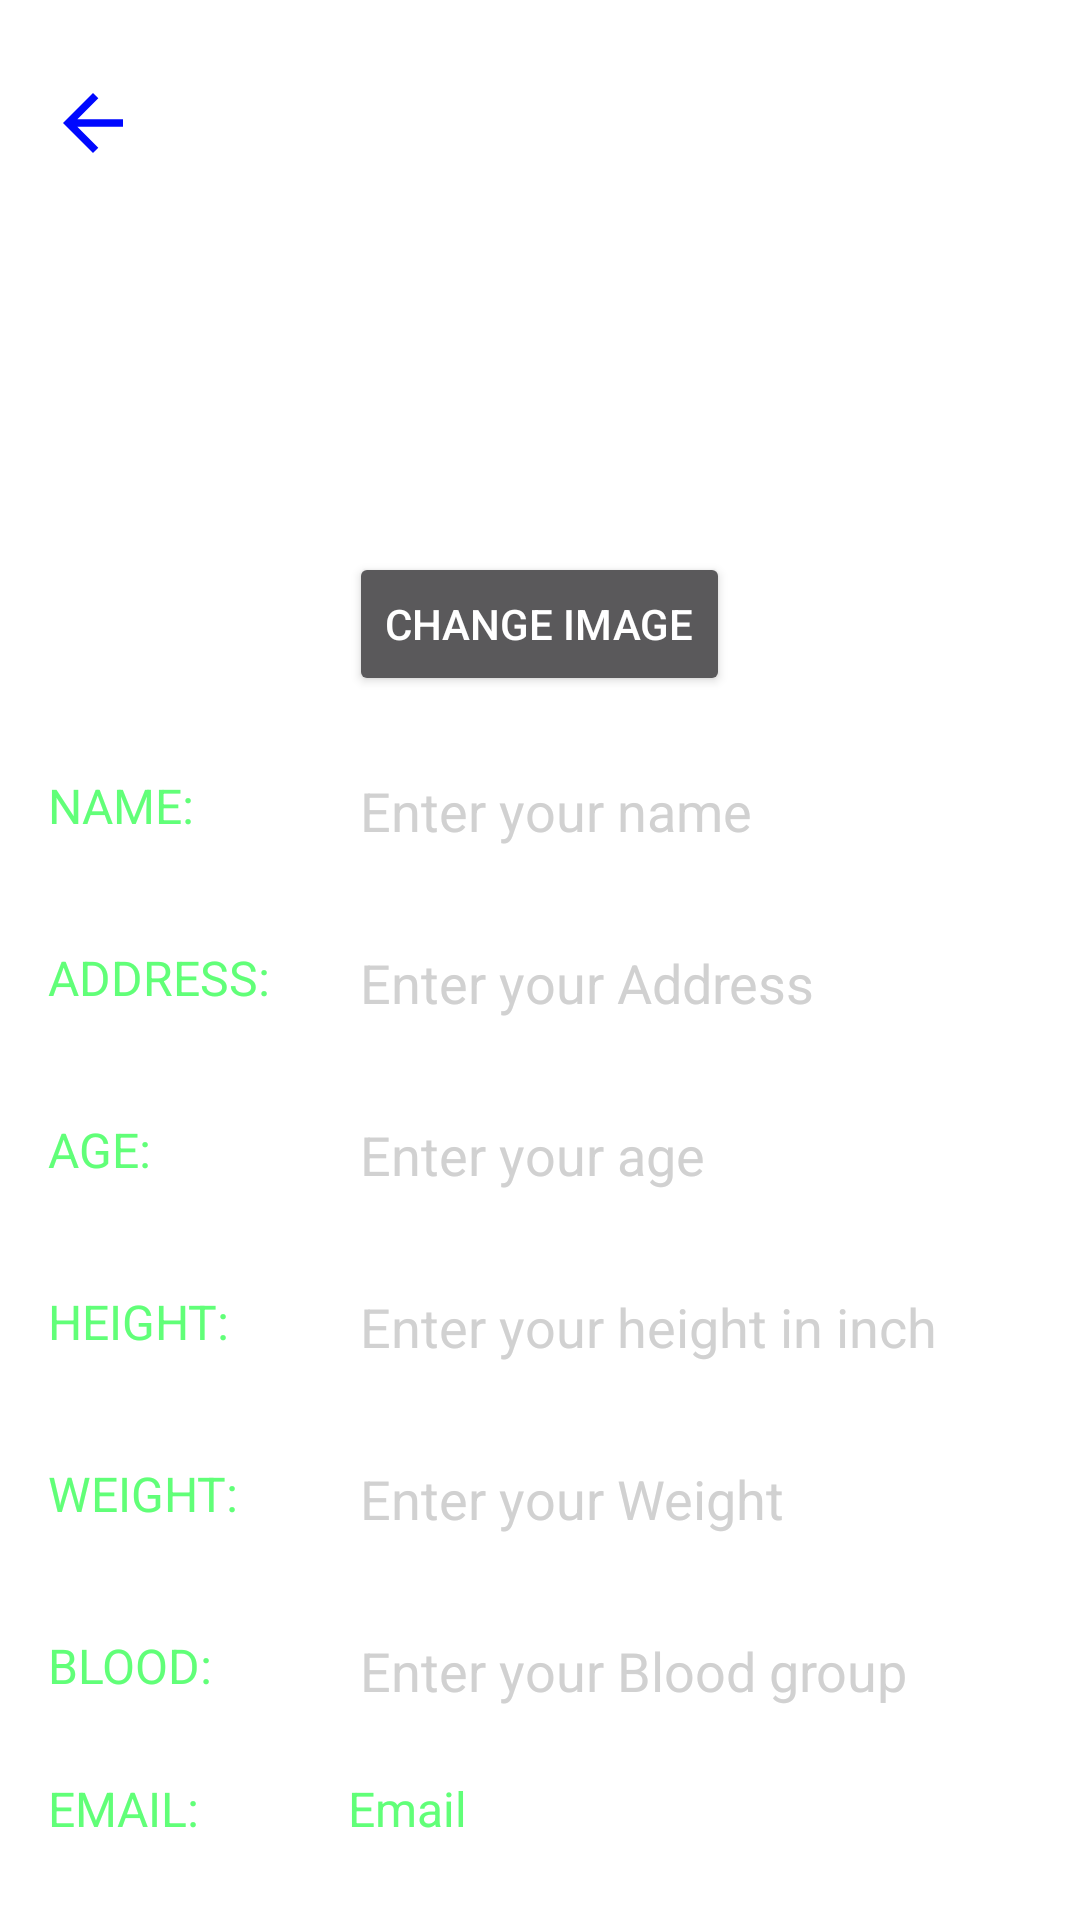

Screen size 1080 × 1920. Icon name, then its box in pixels as (x1, y1, x2, y2):
back: (63, 93, 123, 153)
